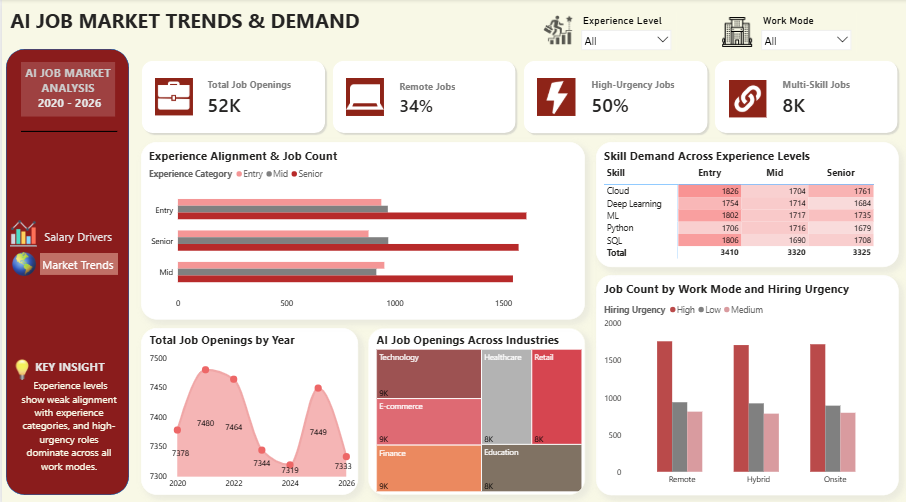

This screenshot's page, from the dashboard's own definition file:
{"tool":"powerbi","page":{"name":"Market Insights","canvas":[1690,950],"ordinal":1},"visuals":[{"type":"shape","box":[8,94,230,834],"z":0,"group":"g7"},{"type":"shape","box":[254,108,357,149.2],"z":0,"group":"g2"},{"type":"shape","box":[612,108,356,149],"z":0,"group":"g1"},{"type":"shape","box":[968,108,358,150],"z":0,"group":"g3"},{"type":"shape","box":[1326,108,356,149],"z":0,"group":"g4"},{"type":"clusteredColumnChart","title":"Job Count by Work Mode and Hiring Urgency","fields":{"Category":["fact_ai_job_market.remote_type"],"Y":["_Measures.Job Count"],"Series":["fact_ai_job_market.hiring_urgency"]},"box":[1110,516,566,412],"z":0},{"type":"textbox","box":[0,10,684,64],"z":1000},{"type":"cardVisual","fields":{"Data":["_Measures.High Urgency Jobs (%)"]},"box":[1072.8,127.3,235.4,113.5],"z":1000,"group":"g3"},{"type":"cardVisual","fields":{"Data":["_Measures.Remote Jobs"]},"box":[714.6,128,213.2,112],"z":1000,"group":"g1"},{"type":"cardVisual","fields":{"Data":["_Measures.Senior Level Job Share (%)"]},"box":[1430.6,128,211.2,110],"z":1000,"group":"g4"},{"type":"cardVisual","fields":{"Data":["_Measures.Total Job Opening"]},"box":[355,128.6,226.3,110.3],"z":1000,"group":"g2"},{"type":"image","box":[643.7,147.5,70.6,70.7],"z":2000,"group":"g1"},{"type":"image","box":[285.2,147.6,70.8,70],"z":2000,"group":"g2"},{"type":"image","box":[1000.1,147.8,71.6,71.1],"z":2000,"group":"g3"},{"type":"image","box":[1359.9,150.8,70.5,70],"z":2000,"group":"g4"},{"type":"treemap","title":"AI Job Openings Across Industries","fields":{"Values":["_Measures.Job Opening Count"],"Group":["fact_ai_job_market.company_industry"]},"box":[684,616,406,312],"z":2000},{"type":"stackedAreaChart","title":"Total Job Openings by Year","fields":{"Category":["fact_ai_job_market.job_posting_year"],"Y":["_Measures.Job Opening Count"]},"box":[260,616,406,312],"z":3000},{"type":"slicer","fields":{"Values":["fact_ai_job_market.experience_level"]},"box":[1073.3,24,188.2,76.4],"z":4000,"group":"g5"},{"type":"slicer","fields":{"Values":["fact_ai_job_market.remote_type"]},"box":[1409.1,24,187.7,76.4],"z":4000,"group":"g6"},{"type":"group","id":"g1","title":"Group 1","box":[612,108,358,150],"z":4000},{"type":"group","id":"g2","title":"Group 1","box":[254,108,357,149.2],"z":5000},{"type":"group","id":"g3","title":"Group 1","box":[968,108,358,150],"z":6000},{"type":"group","id":"g4","title":"Group 1","box":[1326,108,358,150],"z":7000},{"type":"group","id":"g5","title":"Group 2","box":[1006,24,255.4,76.4],"z":8000},{"type":"group","id":"g6","title":"Group 2","box":[1340,24,256,76],"z":9000},{"type":"clusteredBarChart","title":"Experience Alignment & Job Count","fields":{"Category":["fact_ai_job_market.experience_level"],"Series":["fact_ai_job_market.experience_category"],"Y":["_Measures.Job Count"]},"box":[260,268,830,332],"z":10000},{"type":"pivotTable","title":"Skill Demand Across Experience Levels","fields":{"Rows":["bridge_skill_table.skill"],"Columns":["fact_ai_job_market.experience_level"],"Values":["_Measures.Skill Job Count"]},"box":[1110,268,566,234],"z":11000},{"type":"actionButton","box":[76,424,136,40],"z":11000,"group":"g7"},{"type":"group","id":"g7","title":"Group 3","box":[8,94,230,834],"z":12000},{"type":"actionButton","box":[71.6,475.5,145.9,41.1],"z":12000,"group":"g7"},{"type":"image","box":[1006,30,68,56],"z":12001,"group":"g5"},{"type":"image","box":[1340,34,68,56],"z":12001,"group":"g6"},{"type":"textbox","box":[36,118,176,102],"z":13000,"group":"g7"},{"type":"image","box":[16,414,50,50],"z":14000,"group":"g7"},{"type":"image","box":[12,466,60,60],"z":15000,"group":"g7"},{"type":"textbox","box":[28.6,705.5,194.5,215.1],"z":16000,"group":"g7"},{"type":"textbox","box":[56.6,668.1,142.1,43],"z":17000,"group":"g7"},{"type":"image","box":[11.7,671.9,52.4,43],"z":18000,"group":"g7"},{"type":"shape","box":[36,222,180,54],"z":19000,"group":"g7"}]}

Visuals, with their boxes in screenshot pixels (x1, y1, x2, y2), scaled from the page's 1690x950 canvas onto the 906x502 screenshot:
shape: rect(4, 50, 128, 490)
shape: rect(136, 57, 328, 136)
shape: rect(328, 57, 519, 136)
shape: rect(519, 57, 711, 136)
shape: rect(711, 57, 902, 136)
"Job Count by Work Mode and Hiring Urgency" clusteredColumnChart: rect(595, 273, 898, 490)
textbox: rect(0, 5, 367, 39)
cardVisual - _Measures.High Urgency Jobs (%): rect(575, 67, 701, 127)
cardVisual - _Measures.Remote Jobs: rect(383, 68, 497, 127)
cardVisual - _Measures.Senior Level Job Share (%): rect(767, 68, 880, 126)
cardVisual - _Measures.Total Job Opening: rect(190, 68, 312, 126)
image: rect(345, 78, 383, 115)
image: rect(153, 78, 191, 115)
image: rect(536, 78, 575, 116)
image: rect(729, 80, 767, 117)
"AI Job Openings Across Industries" treemap: rect(367, 326, 584, 490)
"Total Job Openings by Year" stackedAreaChart: rect(139, 326, 357, 490)
slicer - fact_ai_job_market.experience_level: rect(575, 13, 676, 53)
slicer - fact_ai_job_market.remote_type: rect(755, 13, 856, 53)
"Group 1" group: rect(328, 57, 520, 136)
"Group 1" group: rect(136, 57, 328, 136)
"Group 1" group: rect(519, 57, 711, 136)
"Group 1" group: rect(711, 57, 903, 136)
"Group 2" group: rect(539, 13, 676, 53)
"Group 2" group: rect(718, 13, 856, 53)
"Experience Alignment & Job Count" clusteredBarChart: rect(139, 142, 584, 317)
"Skill Demand Across Experience Levels" pivotTable: rect(595, 142, 898, 265)
actionButton: rect(41, 224, 114, 245)
"Group 3" group: rect(4, 50, 128, 490)
actionButton: rect(38, 251, 117, 273)
image: rect(539, 16, 576, 45)
image: rect(718, 18, 755, 48)
textbox: rect(19, 62, 114, 116)
image: rect(9, 219, 35, 245)
image: rect(6, 246, 39, 278)
textbox: rect(15, 373, 120, 486)
textbox: rect(30, 353, 107, 376)
image: rect(6, 355, 34, 378)
shape: rect(19, 117, 116, 146)
